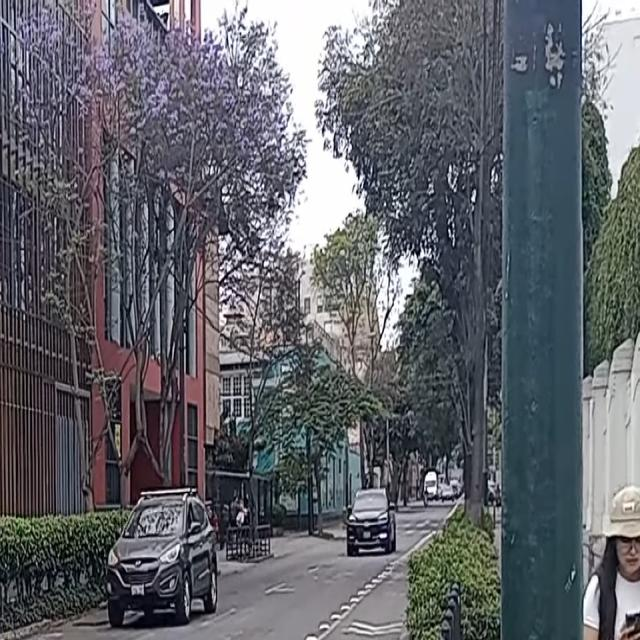car: (106, 489, 219, 630), (348, 490, 396, 556), (424, 472, 437, 500), (442, 484, 454, 501)
motorcycle: (422, 489, 428, 508)
